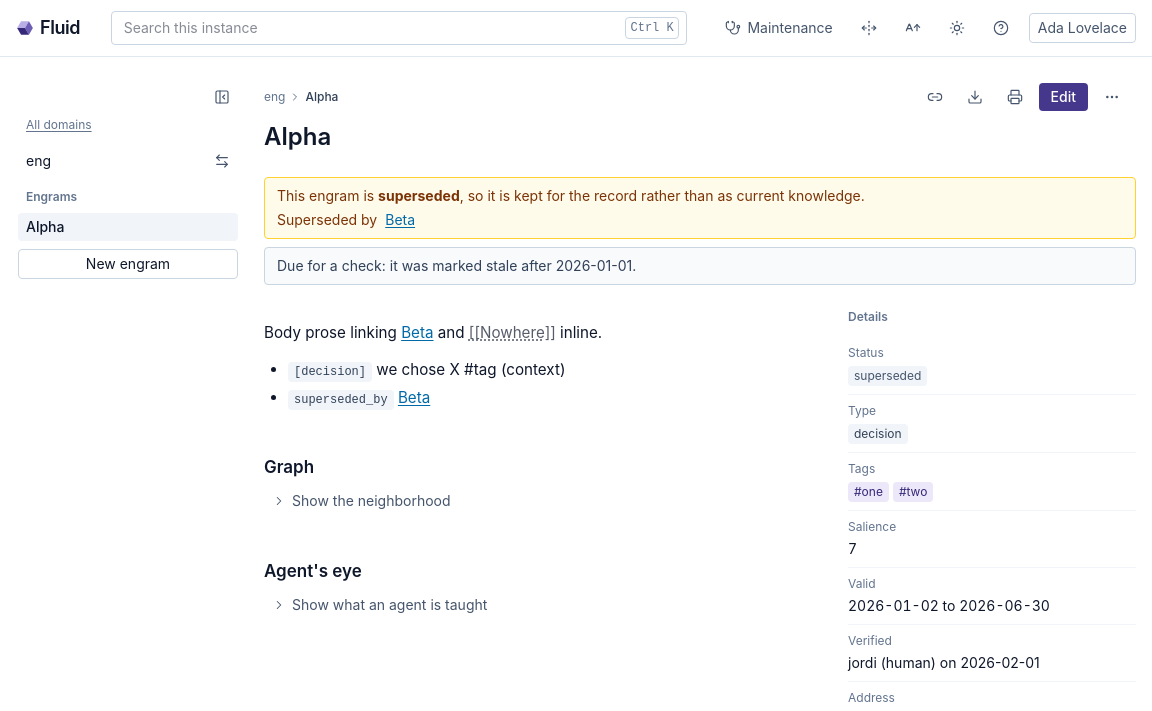
Test: the engram page › opens the guided retirement from the menu
Click the button named "More actions" at (1112, 97), box [1096, 81, 1128, 113]
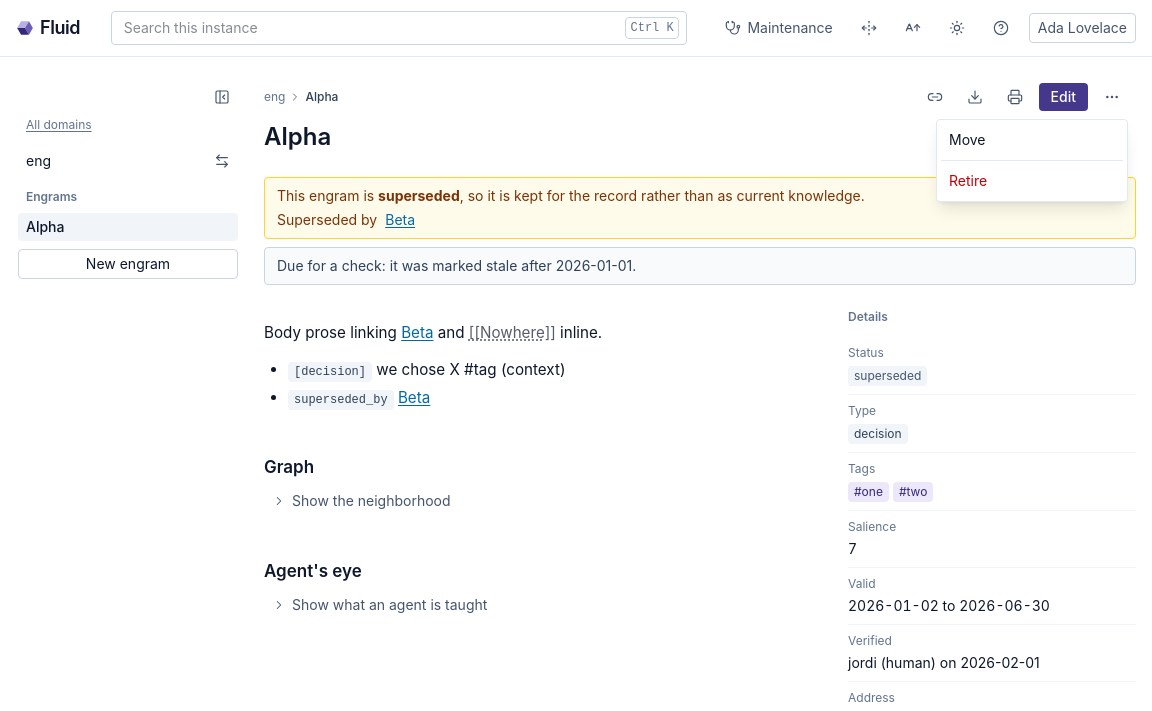
Click the menu item "Retire" at (968, 180), box [949, 172, 987, 189]
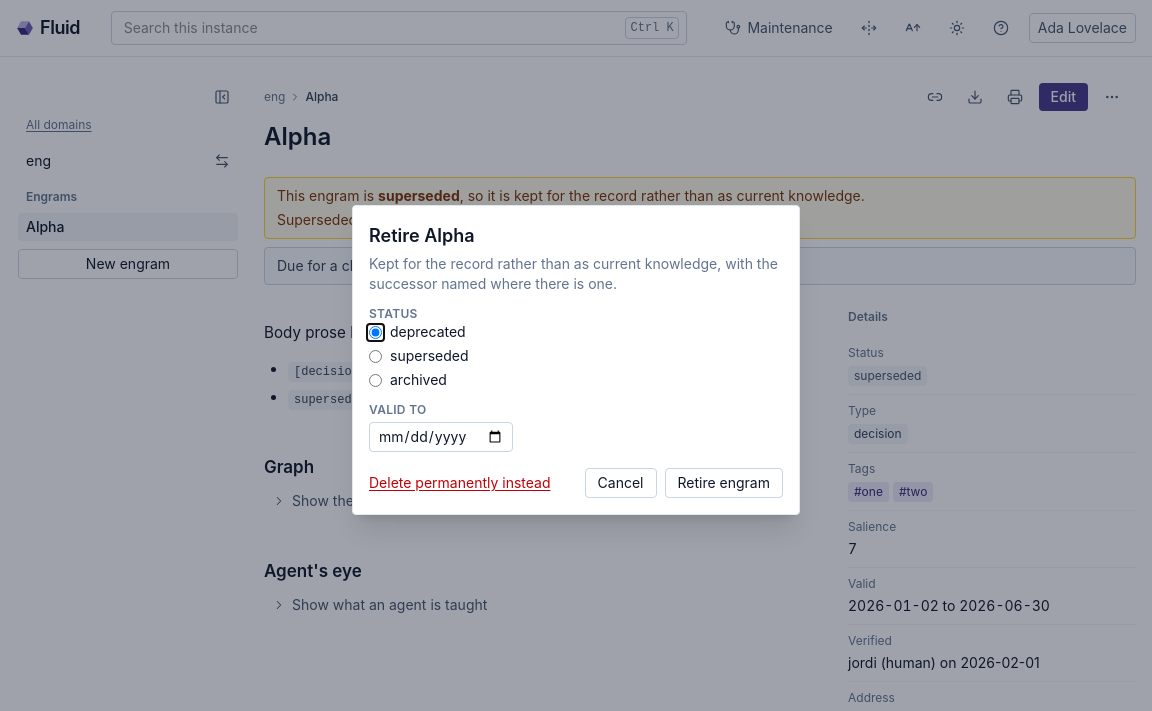
expect the button "Retire engram" is shown: met, box [664, 468, 783, 498]
